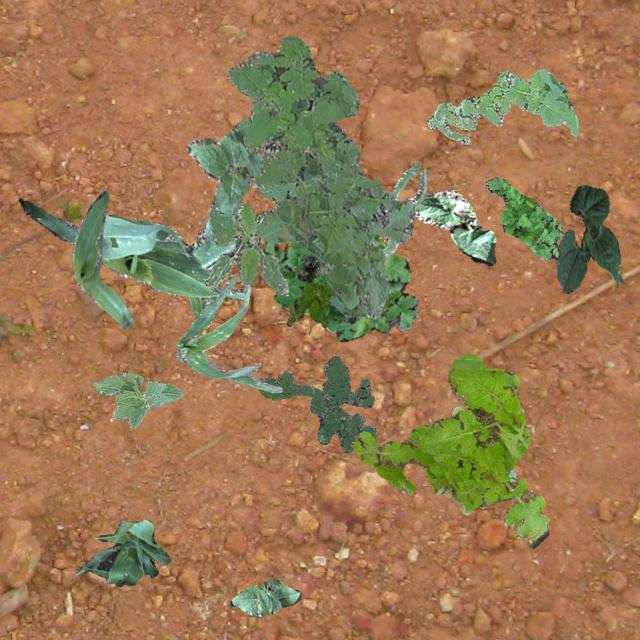crop: (18, 198, 244, 316), (176, 274, 282, 392), (70, 190, 132, 330), (186, 116, 262, 215), (554, 184, 620, 292), (72, 518, 170, 586), (408, 188, 494, 264), (92, 372, 182, 428), (381, 162, 426, 255), (228, 578, 300, 616)
weed: (226, 35, 414, 318), (348, 352, 548, 548), (265, 232, 417, 340), (256, 354, 376, 452), (426, 68, 578, 142), (205, 202, 288, 296), (484, 176, 562, 258), (452, 406, 516, 480), (286, 282, 332, 326)
